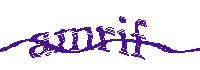a: (30, 30, 51, 59)
f: (130, 16, 149, 62)
i: (116, 15, 131, 58)
m: (53, 24, 93, 55)
r: (95, 24, 116, 53)
